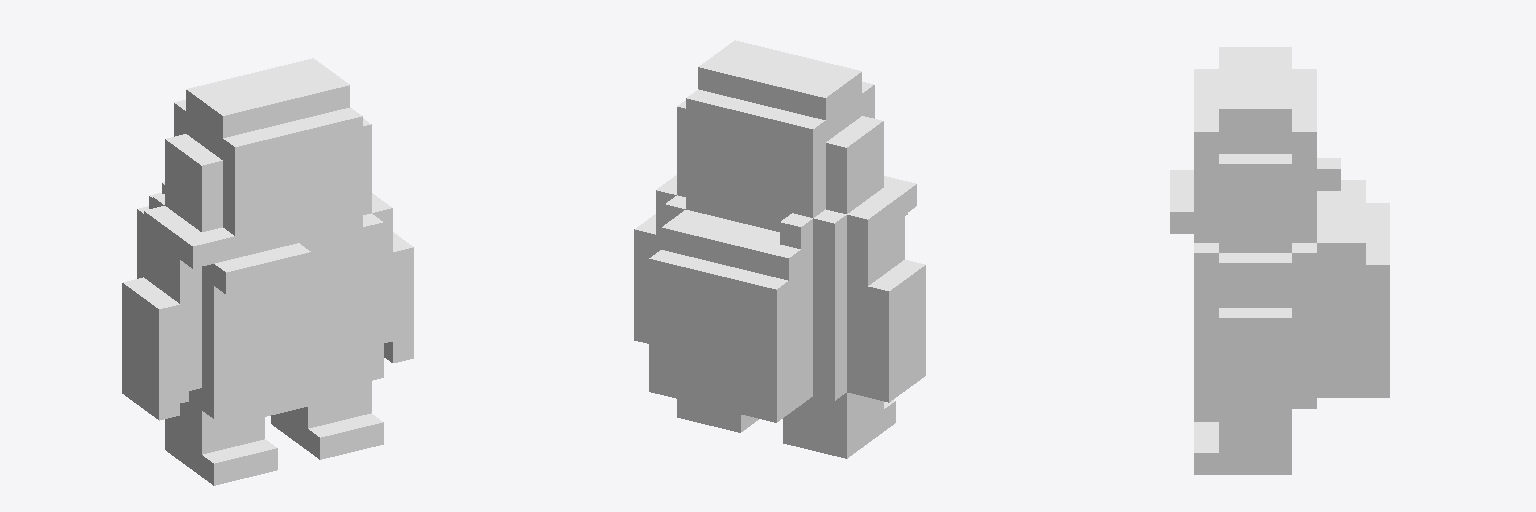
Rendered from komb.obj.
3 views of the same model, side by side, from view 1: azimuth 30°, elevation 25°; view 2: azimuth 150°, elevation 25°; view 3: azimuth 270°, elevation 25° (orthographic).
Visible parts, largest first — view 1: object 1; view 2: object 1; view 3: object 1.
Boxes of the visible parts, box(x1,y1,x2,y2) form: object 1: box(122, 58, 413, 485); object 1: box(634, 40, 925, 458); object 1: box(1170, 47, 1389, 474).
Size of the model in its own units: 1.2 by 1.6 by 0.9.